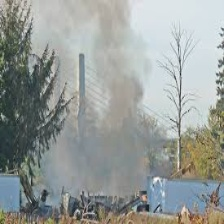smoke: (17, 1, 167, 200)
